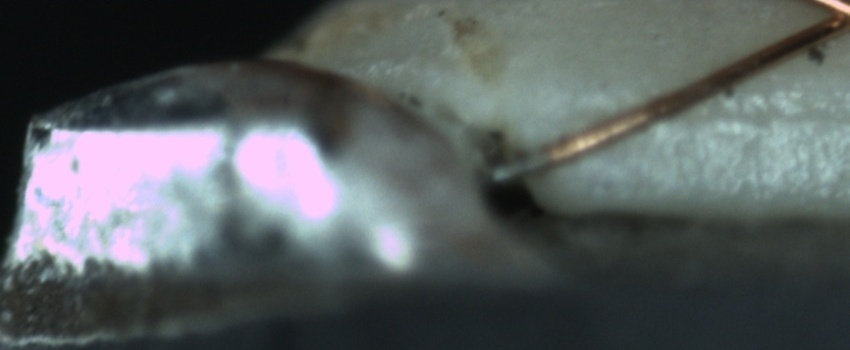CL: (803, 1, 849, 41)
DL: (627, 77, 848, 151)
TS: (488, 150, 547, 182)
